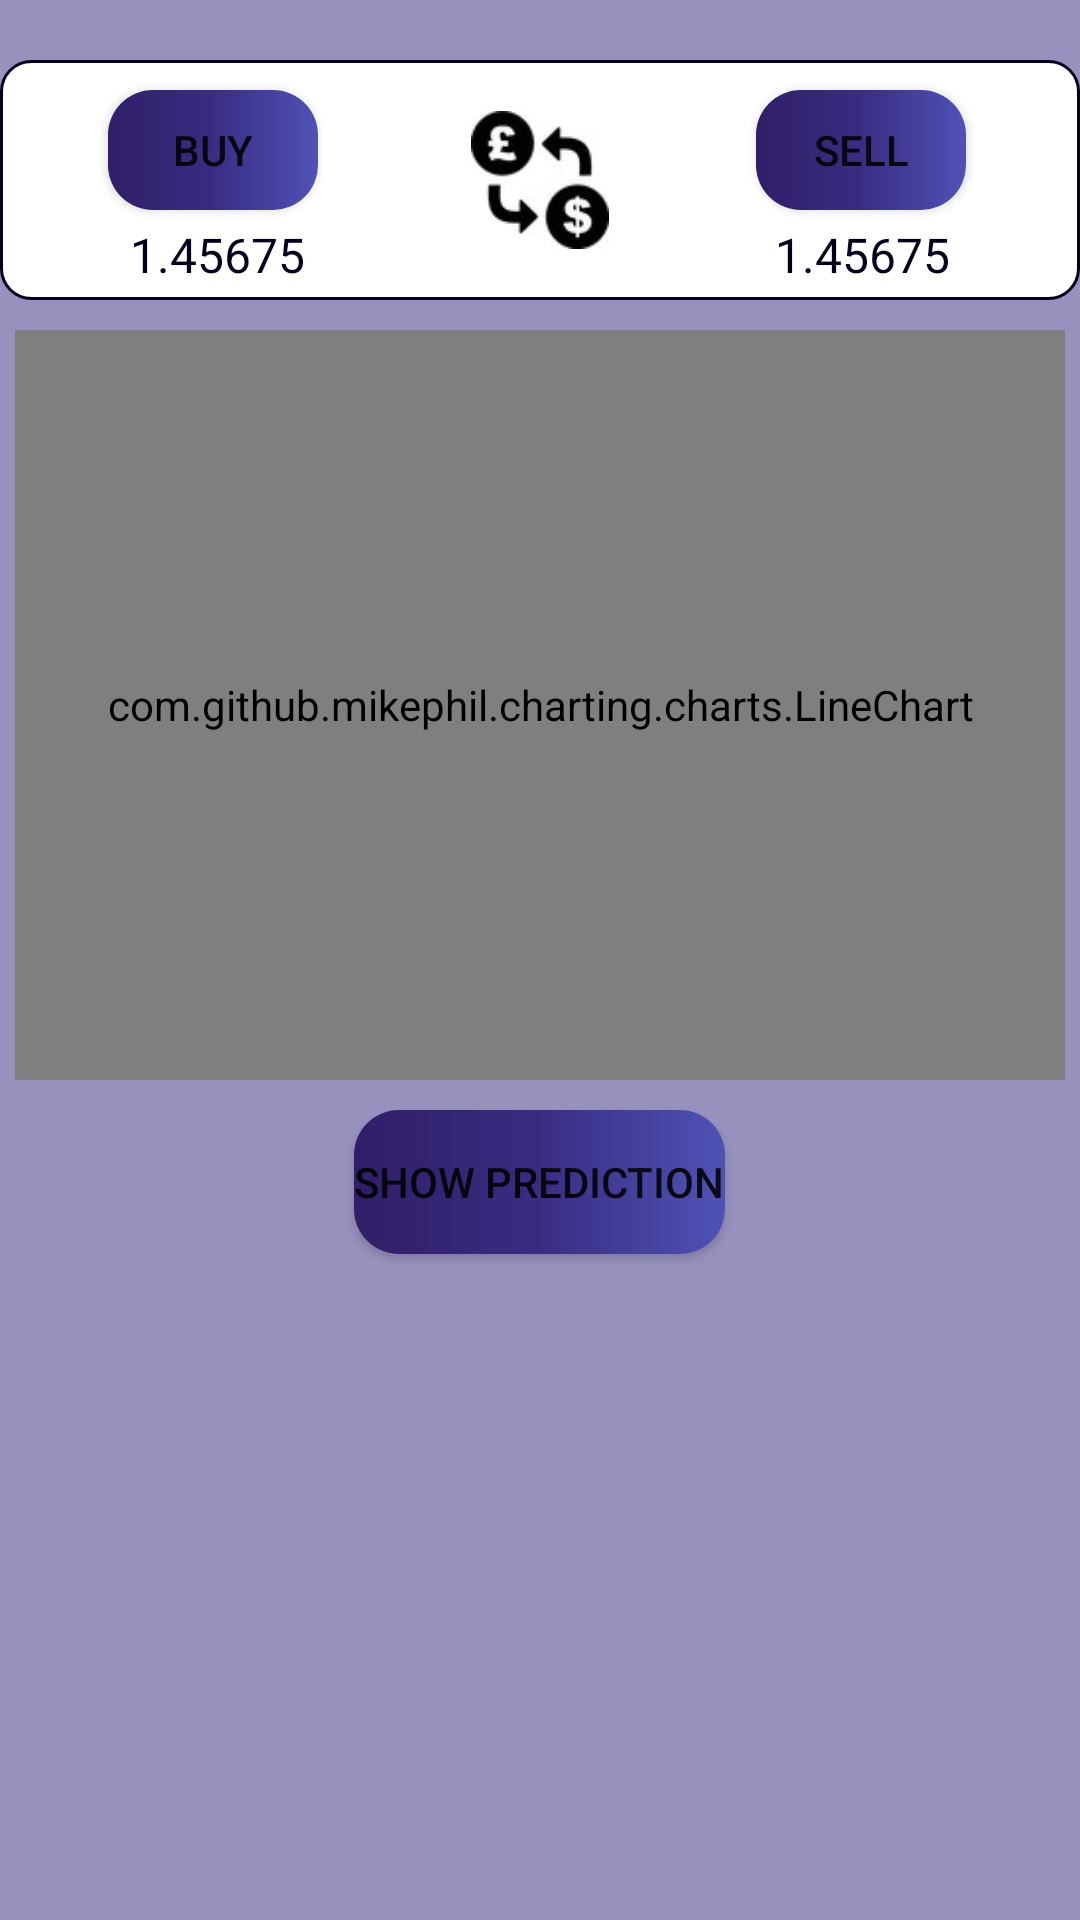

Icons on this 1080*1920 Android screen, each with the point to tap as (x,y):
pound to dollar: (540,180)
